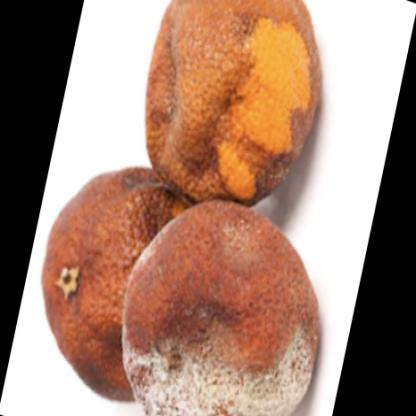rotten: (44, 1, 325, 416)
